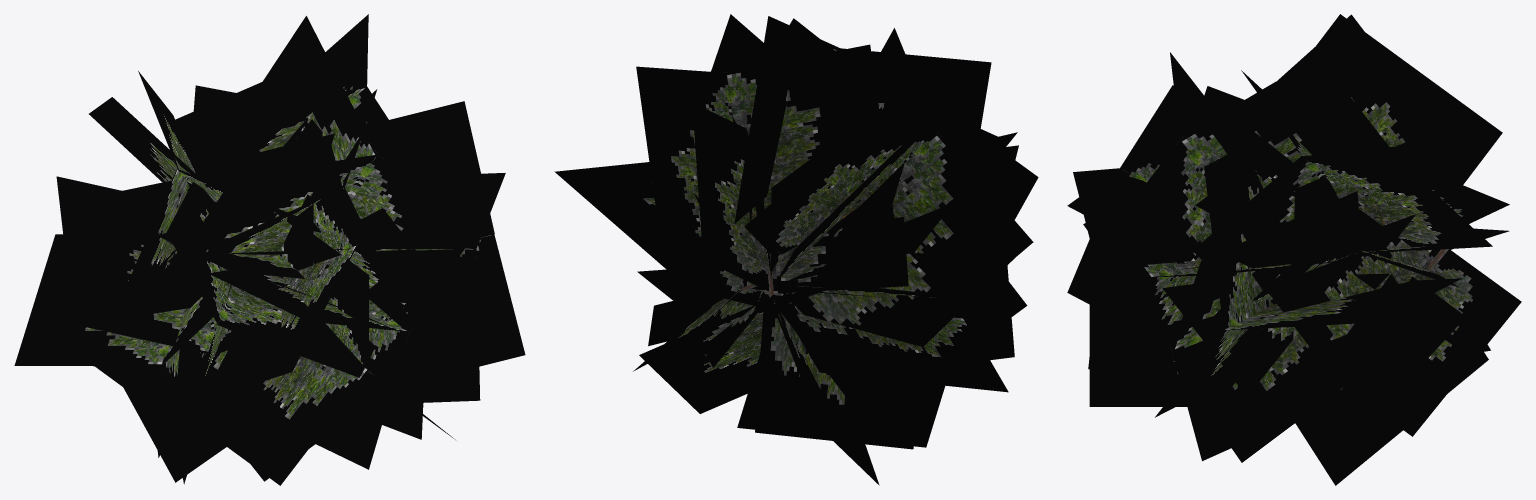
File: bush.glb
3 renders of one model, left to right at view 1: azimuth 30°, elevation 25°; view 2: azimuth 150°, elevation 25°; view 3: azimuth 270°, elevation 25°, orthographic. The views are drawn at different scales.
Visible parts, largest first — view 1: bush; view 2: bush; view 3: bush.
Part boxes in pixels (<box>): bush: <box>14,14,525,485</box>; bush: <box>554,14,1038,485</box>; bush: <box>1067,14,1521,485</box>.
Size of the model in its own units: 1.35 by 1.25 by 1.21.
1 material, 1 textured.
